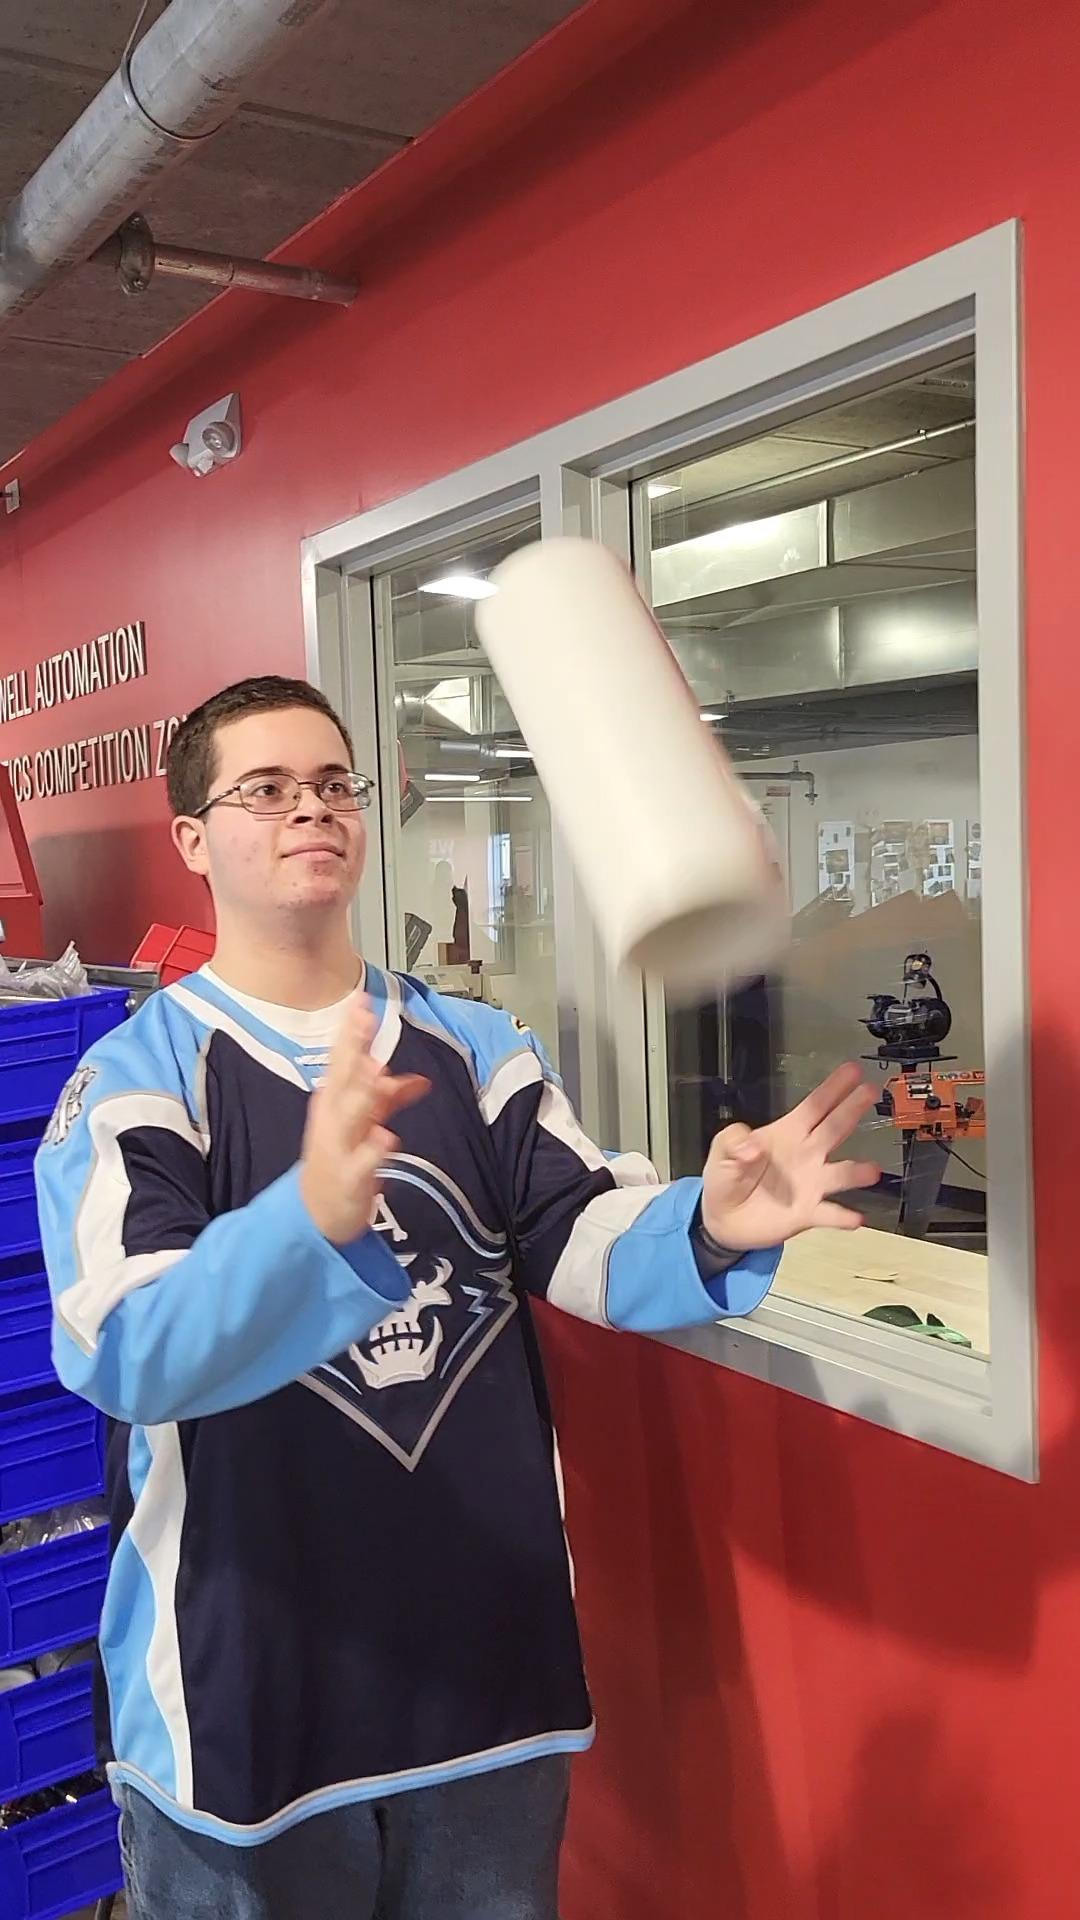coral: (473, 521, 810, 1006)
